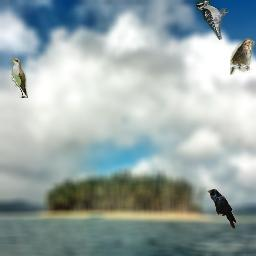Crow: (207, 189, 236, 229)
Cuckoo: (10, 58, 28, 98)
Sparrow: (230, 38, 255, 75)
Woodpecker: (196, 0, 229, 40)
